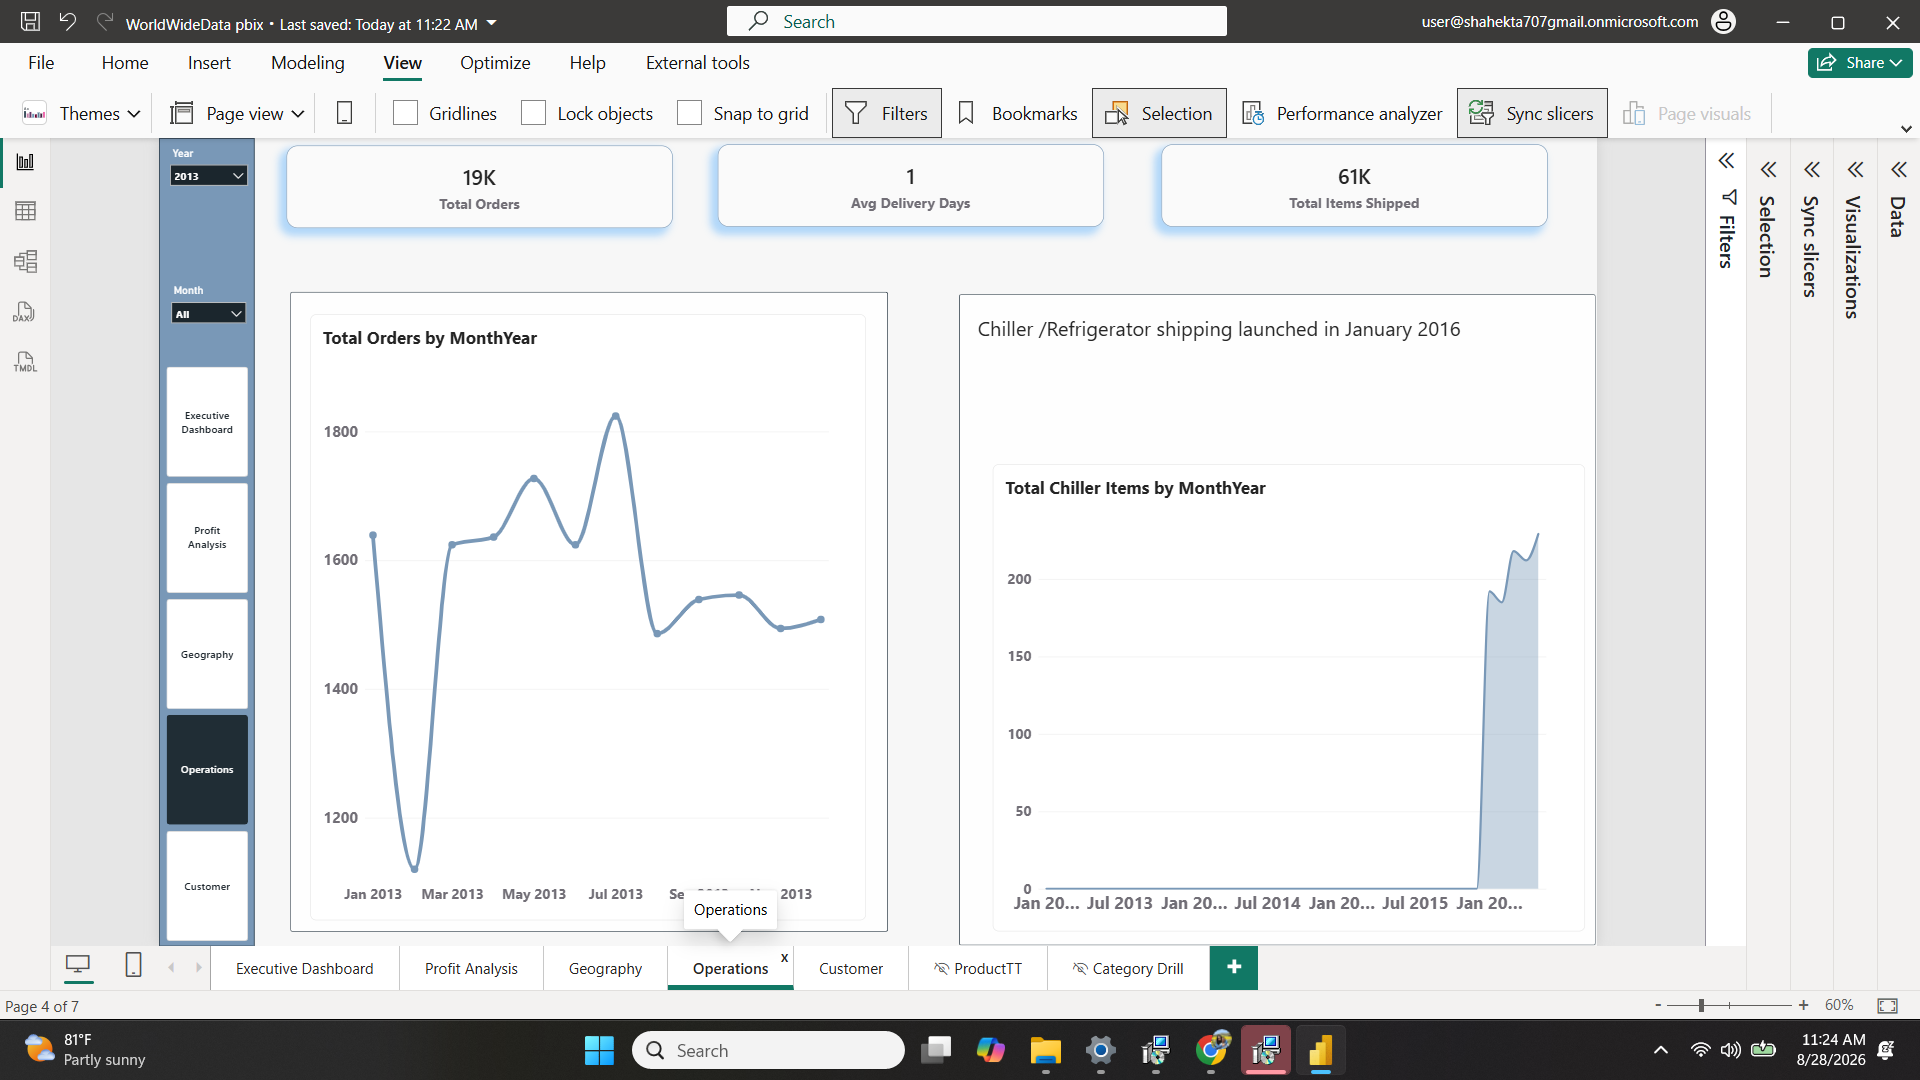

This screenshot's page, from the dashboard's own definition file:
{"tool":"powerbi","page":{"name":"Operations","canvas":[1920,1080],"ordinal":3},"visuals":[{"type":"shape","title":"Shape Line","box":[1069.2,209.3,850.5,870],"z":0},{"type":"shape","box":[0,0,127.7,1079.9],"z":500},{"type":"shape","title":"Shape Line","box":[175.3,205.6,798.6,854.8],"z":1000},{"type":"card","title":"Top Product by Profit","fields":{"Values":["_Measures.Total Orders"]},"box":[171,10.8,515.8,110.4],"z":2000},{"type":"card","title":"Top Product by Profit","fields":{"Values":["_Measures.Avg Delivery Days"]},"box":[746.6,8.7,515.8,110.4],"z":3000},{"type":"card","title":"Top Product by Profit","fields":{"Values":["_Measures.Total Items Shipped"]},"box":[1339.5,8.7,515.8,110.4],"z":4000},{"type":"lineChart","fields":{"Category":["Dim_Date.MonthYear"],"Y":["_Measures.Total Orders"]},"box":[201.3,235.9,742.3,809.4],"z":5000},{"type":"areaChart","fields":{"Category":["Dim_Date.MonthYear"],"Y":["_Measures.Total Chiller Items"]},"box":[1114.4,436.2,791,624],"z":6000},{"type":"textbox","box":[1093.6,235.5,802.3,54.1],"z":7000},{"type":"pageNavigator","box":[10.5,305.2,109.9,770.9],"z":7001},{"type":"slicer","fields":{"Values":["Dim_Date.Year"]},"box":[10.5,12.2,114,63.3],"z":7002},{"type":"slicer","fields":{"Values":["Dim_ Customers.AccountOpenedDate.Variation.Date Hierarchy.Month"]},"box":[12.2,195.3,109.9,52.3],"z":7003}]}

Visuals, with their boxes on the page's 1920x1080 design canvas (x1, y1, x2, y2). These are canvas units, not pixel positions in the 1920x1080 screenshot, which may show the page scaled, cropped or inside an application window:
"Shape Line" shape: {"left": 1069, "top": 209, "right": 1920, "bottom": 1079}
shape: {"left": 0, "top": 0, "right": 128, "bottom": 1080}
"Shape Line" shape: {"left": 175, "top": 206, "right": 974, "bottom": 1060}
"Top Product by Profit" card: {"left": 171, "top": 11, "right": 687, "bottom": 121}
"Top Product by Profit" card: {"left": 747, "top": 9, "right": 1262, "bottom": 119}
"Top Product by Profit" card: {"left": 1340, "top": 9, "right": 1855, "bottom": 119}
lineChart - Dim_Date.MonthYear x _Measures.Total Orders: {"left": 201, "top": 236, "right": 944, "bottom": 1045}
areaChart - Dim_Date.MonthYear x _Measures.Total Chiller Items: {"left": 1114, "top": 436, "right": 1905, "bottom": 1060}
textbox: {"left": 1094, "top": 236, "right": 1896, "bottom": 290}
pageNavigator: {"left": 10, "top": 305, "right": 120, "bottom": 1076}
slicer - Dim_Date.Year: {"left": 10, "top": 12, "right": 124, "bottom": 76}
slicer - Dim_ Customers.AccountOpenedDate.Variation.Date Hierarchy.Month: {"left": 12, "top": 195, "right": 122, "bottom": 248}
